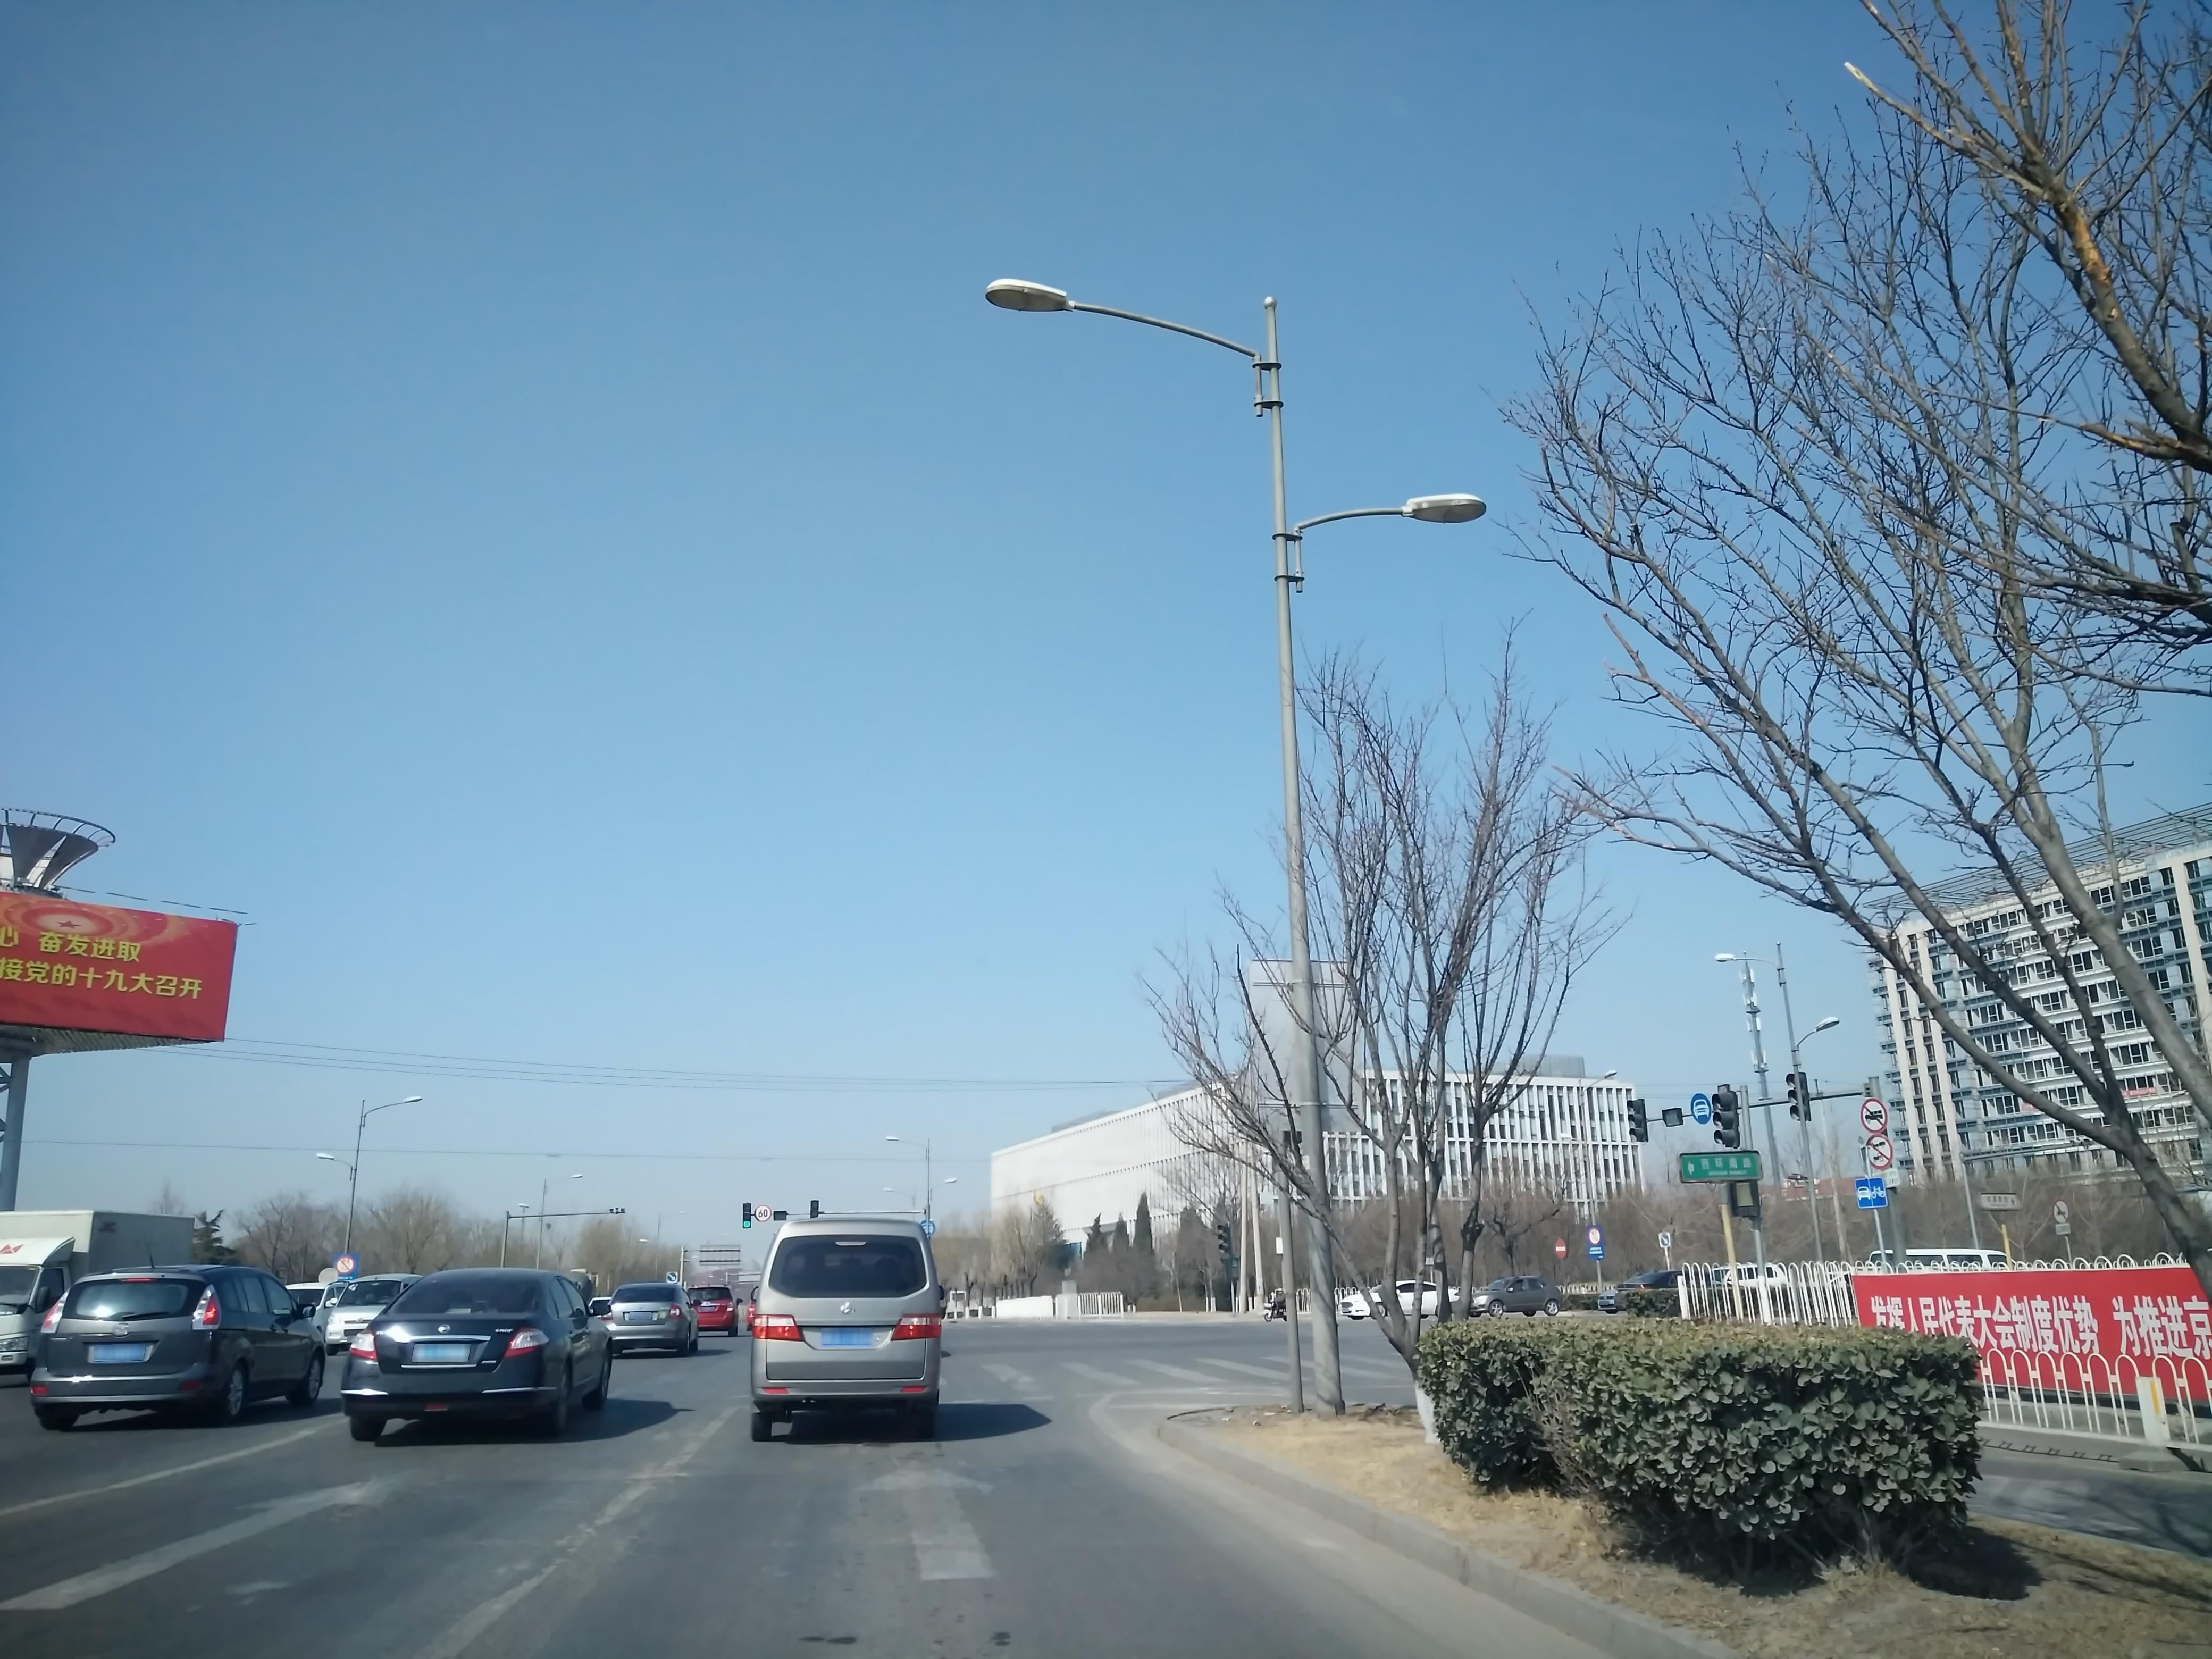vinyl banner: (1846, 1237, 2212, 1403)
